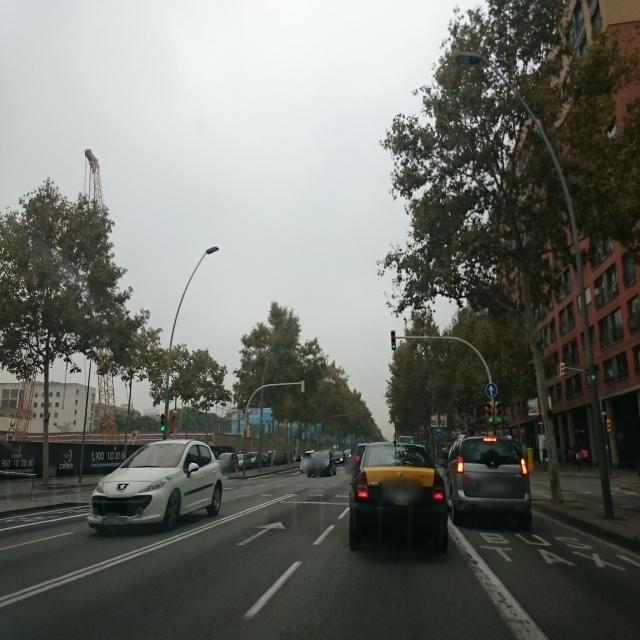car: (87, 438, 223, 534), (347, 441, 450, 554), (442, 434, 533, 529), (306, 450, 337, 478), (216, 452, 239, 473), (240, 451, 262, 470), (299, 449, 315, 473), (265, 450, 287, 466), (331, 448, 346, 467)
